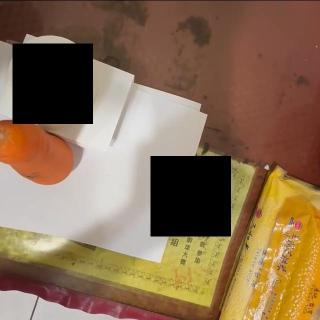carrot: (0, 117, 74, 185)
